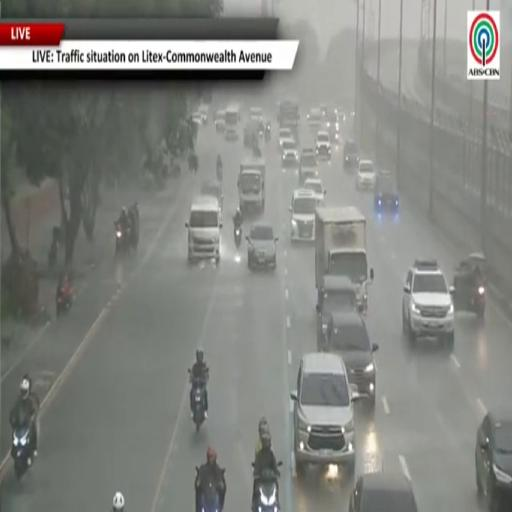car: (291, 352, 359, 475), (322, 310, 378, 409), (402, 260, 455, 349), (475, 408, 511, 511), (316, 275, 357, 349), (349, 472, 417, 511), (186, 196, 222, 263), (289, 189, 317, 242), (246, 223, 278, 269), (375, 173, 399, 213), (200, 180, 223, 212), (299, 149, 318, 185), (356, 159, 376, 190), (303, 179, 326, 203), (281, 138, 299, 168), (325, 111, 339, 143), (343, 141, 359, 169), (316, 132, 330, 161), (243, 121, 258, 148), (279, 127, 294, 148), (307, 108, 323, 127), (215, 110, 226, 132), (249, 107, 263, 122), (198, 105, 209, 123), (335, 107, 346, 122), (192, 111, 203, 125), (320, 104, 329, 117)
motorcycle: (11, 424, 32, 479), (253, 470, 280, 511), (454, 284, 486, 318), (196, 468, 221, 511), (189, 370, 206, 431), (56, 285, 74, 315), (115, 222, 131, 254), (201, 485, 220, 511), (48, 238, 58, 270), (234, 226, 242, 248), (264, 124, 271, 143), (216, 164, 222, 182)
truck: (315, 206, 374, 311), (238, 157, 266, 214), (278, 100, 299, 141), (225, 104, 240, 140)
